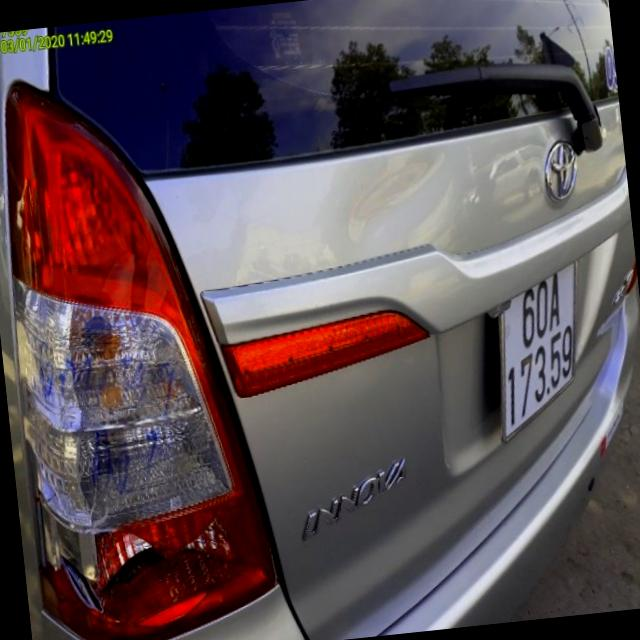Phare abime: (36, 522, 134, 637)
